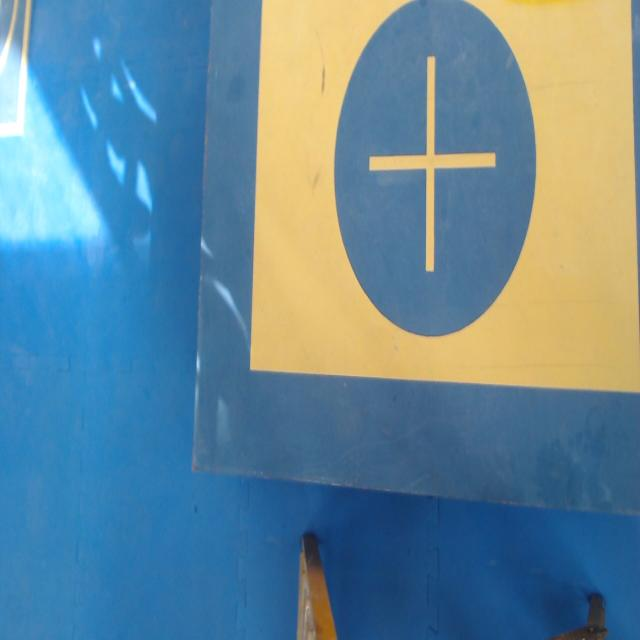base_inicio: (249, 0, 640, 396)
